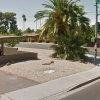Tree: (43, 3, 91, 65)
